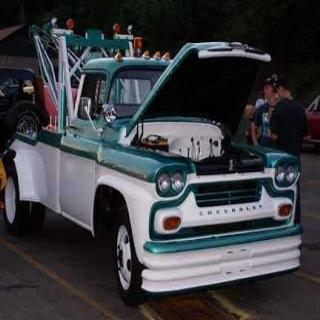Towing_truck: (2, 27, 304, 306)
